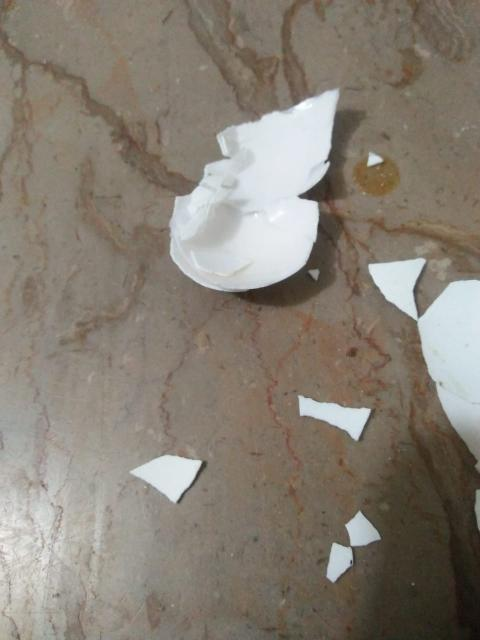Roto: (168, 86, 340, 292)
